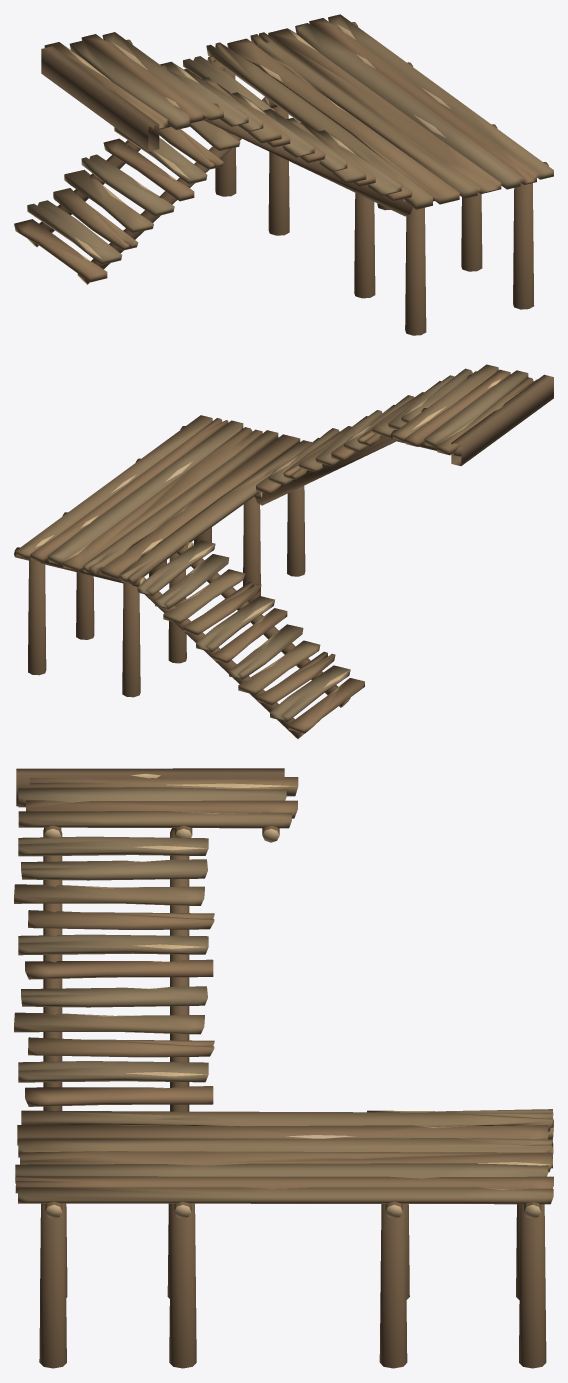
File: rpgpp_ag_stairs_interior_01e_4m.fbx
3 views of the same model, one above another, from view 1: azimuth 30°, elevation 25°; view 2: azimuth 150°, elevation 25°; view 3: azimuth 270°, elevation 25° (orthographic). The views are drawn at different scales.
Visible parts, largest first — view 1: rpgpp_ag_stairs_interior_01e_4m; view 2: rpgpp_ag_stairs_interior_01e_4m; view 3: rpgpp_ag_stairs_interior_01e_4m.
Part boxes in pixels (left/top/right/bottom): rpgpp_ag_stairs_interior_01e_4m: left=14, top=14, right=553, bottom=335; rpgpp_ag_stairs_interior_01e_4m: left=14, top=364, right=553, bottom=739; rpgpp_ag_stairs_interior_01e_4m: left=14, top=768, right=553, bottom=1368.
Bounding box in the file's own units: 6.22 × 4.18 × 5.61.
